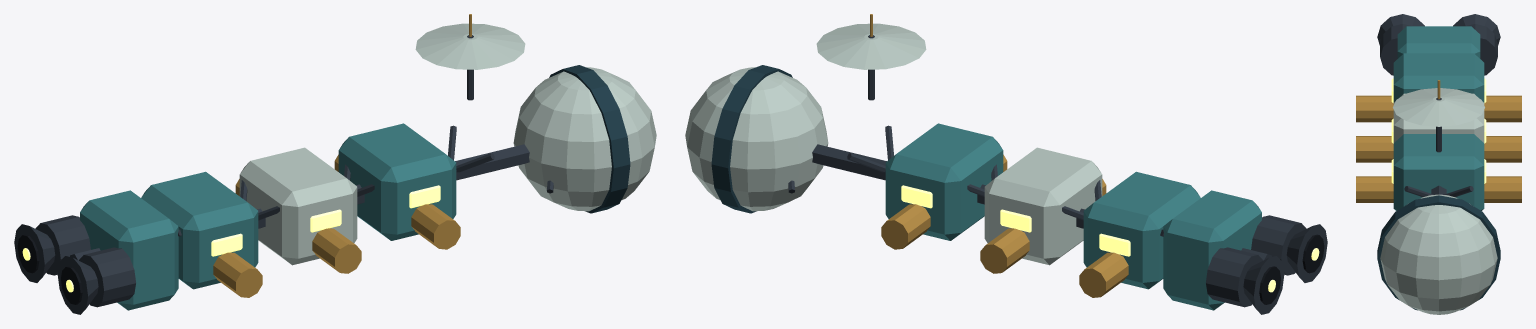
Rendered from the-hypothesis.glb.
The picture shows the model from 3 angles, left to right: view 1: azimuth 30°, elevation 25°; view 2: azimuth 150°, elevation 25°; view 3: azimuth 270°, elevation 25°; orthographic projection. The views are drawn at different scales.
Parts seen in each view (by area): view 1: forward observatory, replaceable laboratory.002, replaceable laboratory.001, replaceable laboratory, reactor instrument block, survey dish, observation band, engine jacket, engine jacket.001, sample canister, sample canister.001, sample canister.002 (+8 smaller); view 2: forward observatory, replaceable laboratory.002, replaceable laboratory.001, replaceable laboratory, reactor instrument block, survey dish, observation band, engine jacket.001, engine jacket, sample canister.003, sample canister.004, sample canister.005 (+8 smaller); view 3: forward observatory, replaceable laboratory.002, replaceable laboratory, survey dish, reactor instrument block, observation band, replaceable laboratory.001, sample canister, sample canister.003, sample canister.002, sample canister.005, sample canister.001 (+8 smaller).
Part boxes in pixels (x1,y1,x2,y2): forward observatory: (513,67,656,211); replaceable laboratory.002: (338,123,456,240); replaceable laboratory.001: (239,147,357,265); replaceable laboratory: (141,171,258,289); reactor instrument block: (80,190,178,310); survey dish: (415,23,525,69); observation band: (549,65,630,213); engine jacket: (79,247,135,307); engine jacket.001: (35,215,90,275); sample canister: (213,252,262,297); sample canister.001: (312,228,361,273); sample canister.002: (411,204,460,249); forward observatory: (685,67,828,211); replaceable laboratory.002: (885,123,1003,240); replaceable laboratory.001: (984,147,1102,265); replaceable laboratory: (1083,171,1200,289); reactor instrument block: (1163,190,1261,310); survey dish: (816,23,926,69); observation band: (711,65,792,213); engine jacket.001: (1206,247,1262,307); engine jacket: (1251,215,1306,275); sample canister.003: (1079,252,1128,297); sample canister.004: (980,228,1029,273); sample canister.005: (881,204,930,249); forward observatory: (1380,194,1497,314); replaceable laboratory.002: (1393,134,1484,210); replaceable laboratory: (1393,53,1484,102); survey dish: (1393,88,1484,126); reactor instrument block: (1397,26,1480,58); observation band: (1377,195,1500,310); replaceable laboratory.001: (1393,93,1484,142); sample canister: (1356,95,1393,122); sample canister.003: (1484,95,1521,122); sample canister.002: (1356,176,1393,202); sample canister.005: (1484,176,1521,202); sample canister.001: (1356,136,1393,162).
Bounding box in the file's own units: 11.52 × 4.03 × 3.3.
